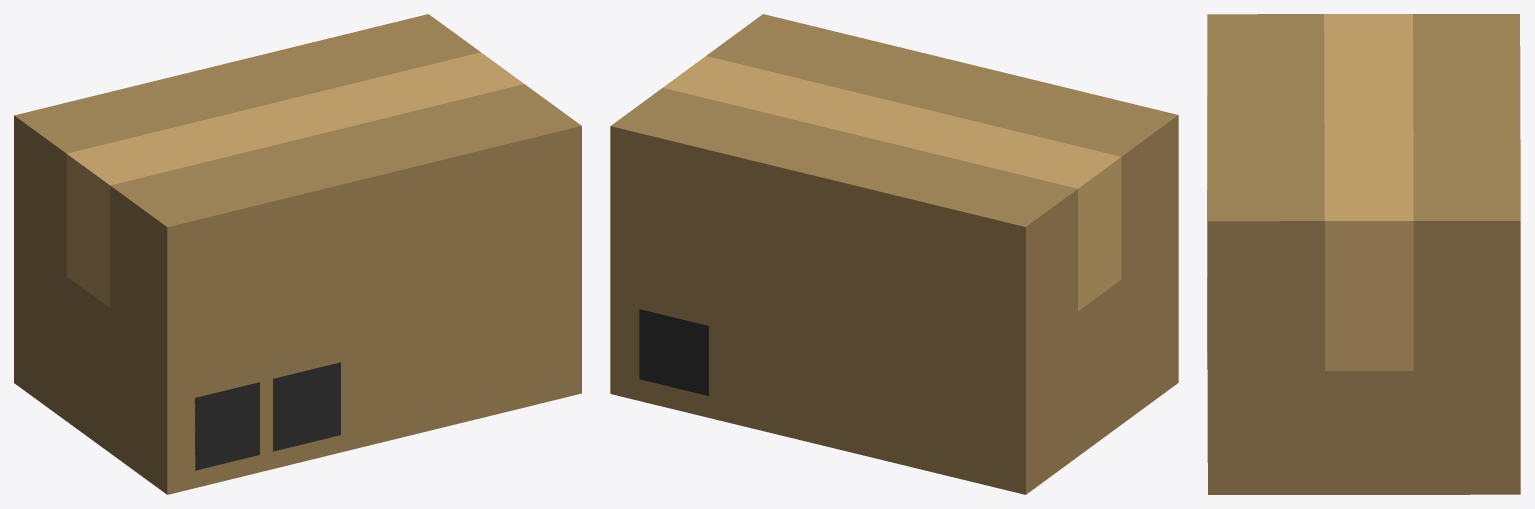
The model's file is Courier.fbx.
3 renders of one model, left to right at view 1: azimuth 30°, elevation 25°; view 2: azimuth 150°, elevation 25°; view 3: azimuth 270°, elevation 25°, orthographic. The views are drawn at different scales.
Visible parts, largest first — view 1: Courier; view 2: Courier; view 3: Courier.
Boxes of the visible parts, box(x1,y1,x2,y2) form: Courier: box(14, 14, 581, 494); Courier: box(610, 14, 1178, 494); Courier: box(1207, 14, 1520, 494).
Bounding box in the file's own units: 51.38 × 31.66 × 32.86.
